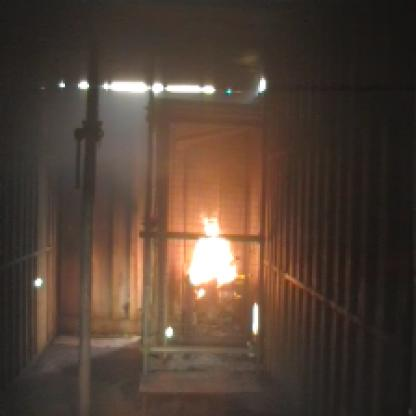Fire: (180, 202, 236, 290)
